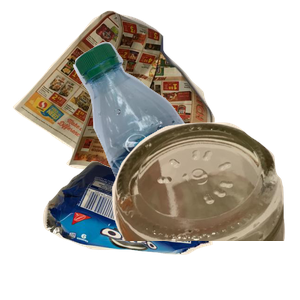glass: (89, 120, 300, 300)
paper: (10, 10, 217, 189)
plastic: (71, 39, 300, 219)
trash: (40, 158, 245, 300)
